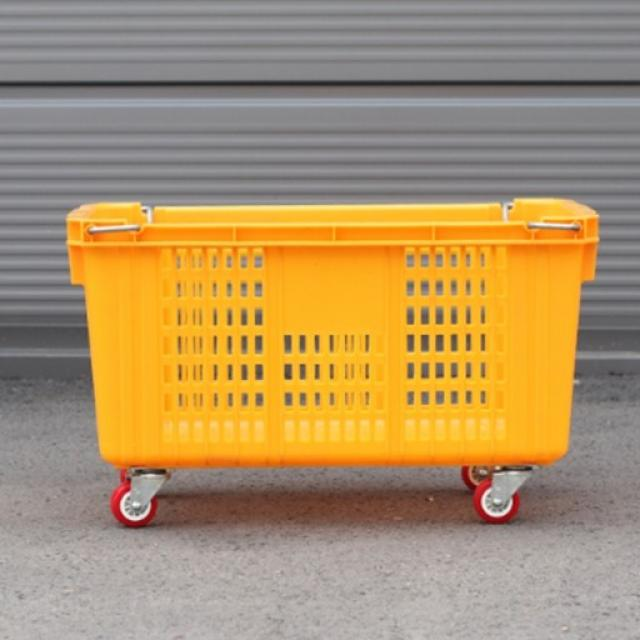basket: (66, 196, 604, 529)
